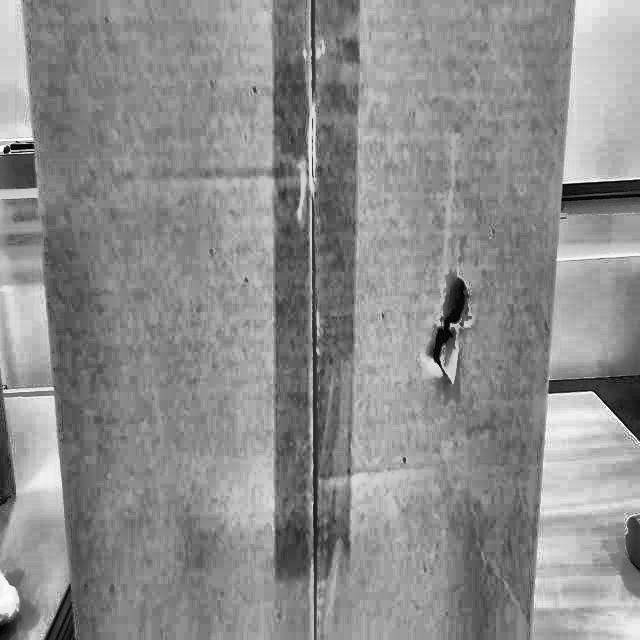box: (12, 0, 588, 639)
hole: (424, 268, 478, 392)
